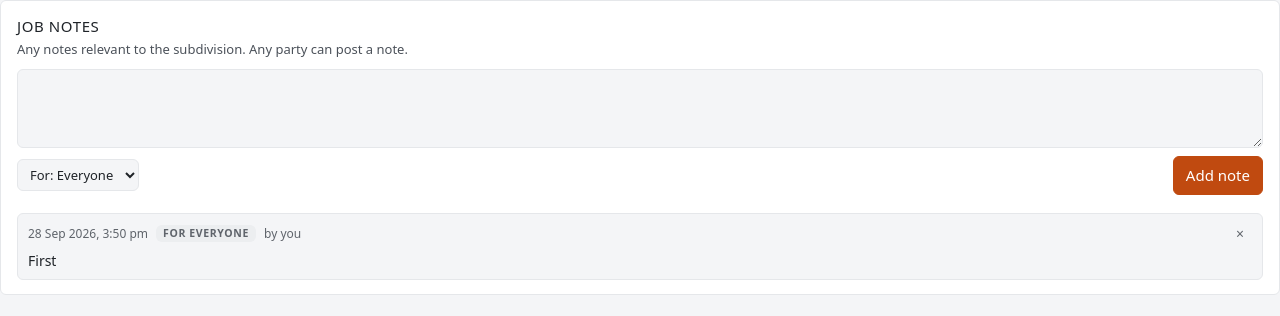
Test case: JobNotes › delete › focus after Yes › moves to the note box when the last note was deleted
The image size is (1280, 316).
Click the button named "Delete note": coordinates (1240, 234) left=1228, top=222, right=1252, bottom=246
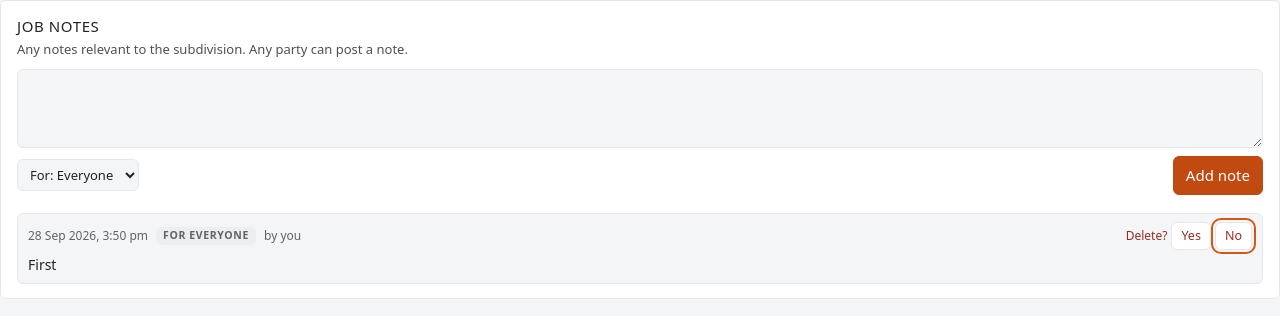
Click the button "Yes": coordinates (1191, 236) left=1171, top=222, right=1211, bottom=250
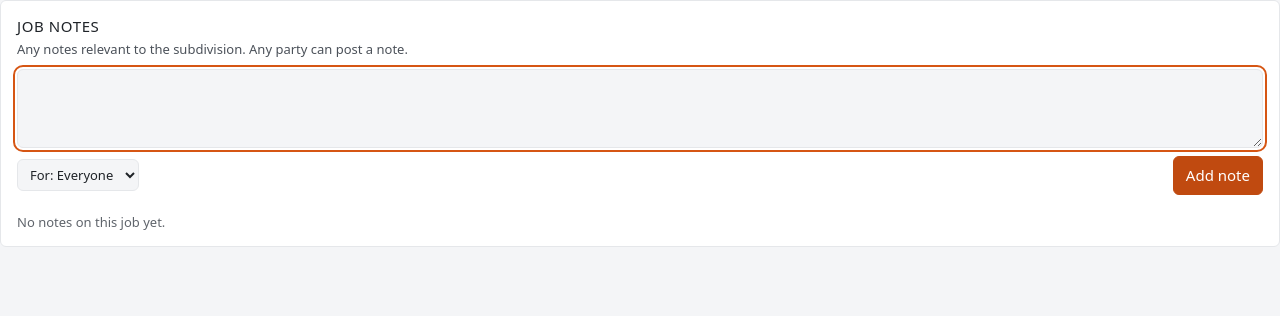
Check: the text "No notes on this job yet." is shown, box left=17, top=212, right=165, bottom=230
